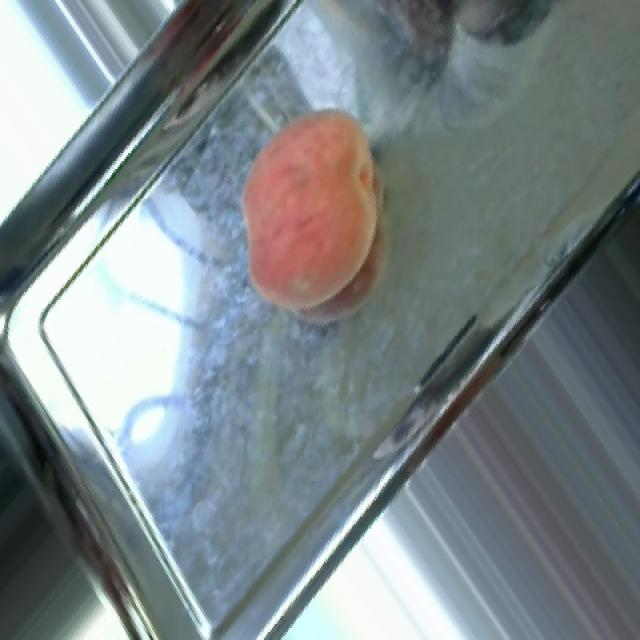Fruit: (227, 95, 400, 326)
